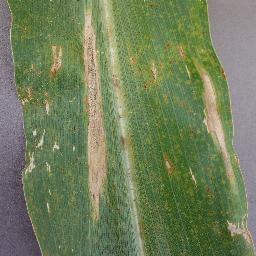Corn_Blight: (78, 4, 110, 224), (197, 59, 245, 195), (17, 127, 73, 179), (141, 44, 189, 89), (222, 215, 256, 252), (21, 82, 53, 112), (47, 40, 66, 80), (118, 123, 137, 156), (159, 146, 179, 177), (15, 20, 38, 41), (41, 185, 58, 212), (127, 49, 138, 87), (185, 167, 199, 189), (113, 64, 120, 106), (24, 65, 42, 77), (117, 111, 132, 121)
